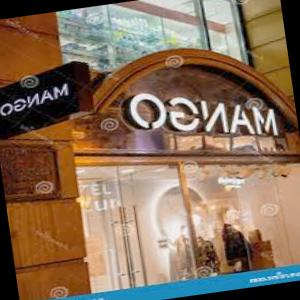mango: (115, 89, 288, 151), (0, 76, 79, 125)
